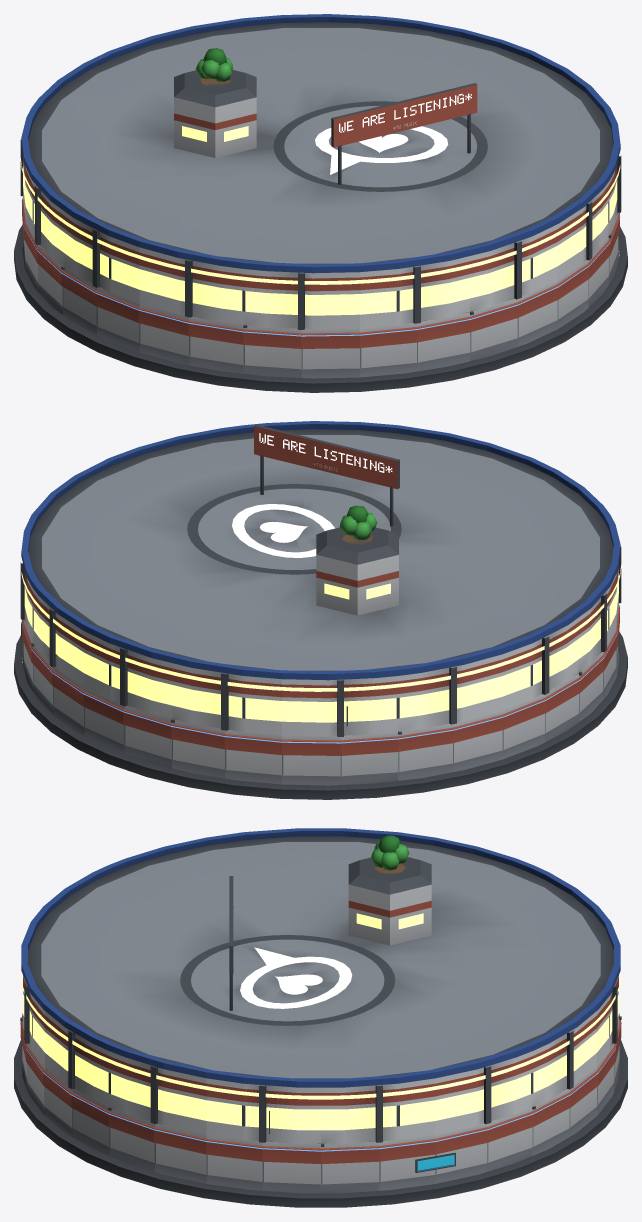
File: hr_office_m.glb
3 views of the same model, one above another, from view 1: azimuth 30°, elevation 25°; view 2: azimuth 150°, elevation 25°; view 3: azimuth 270°, elevation 25° (orthographic).
Parts seen in each view (by area): view 1: Roof, Base, PorchTop, Upper_21, Upper_22, Upper_20, Upper_19, Wall_21, Wall_20, Upper_23, Wall_22, Upper_24 (+22 smaller); view 2: Roof, Base, PorchTop, Upper_10, Upper_09, Upper_11, Upper_12, Wall_10, Wall_11, Upper_08, Wall_09, Upper_07 (+23 smaller); view 3: Roof, Base, Upper_00, Upper_31, PorchTop, Upper_01, Upper_30, Wall_00, Wall_31, Upper_02, Upper_29, Wall_30 (+22 smaller).
Part boxes in pixels (box(x1,y1,x2,y2)): Roof: box(21, 14, 620, 267); Base: box(14, 225, 627, 392); PorchTop: box(20, 83, 620, 284); Upper_21: box(301, 272, 359, 329); Upper_22: box(360, 266, 417, 328); Upper_20: box(244, 269, 301, 329); Upper_19: box(188, 260, 243, 325); Wall_21: box(301, 328, 359, 378); Wall_20: box(243, 325, 301, 377); Upper_23: box(416, 256, 469, 323); Wall_22: box(360, 322, 417, 377); Upper_24: box(469, 242, 519, 311); Roof: box(21, 421, 620, 674); Base: box(14, 632, 627, 799); PorchTop: box(21, 424, 621, 691); Upper_10: box(282, 679, 340, 736); Upper_09: box(224, 673, 281, 735); Upper_11: box(340, 676, 397, 736); Upper_12: box(398, 667, 453, 731); Wall_10: box(282, 735, 340, 785); Wall_11: box(340, 732, 398, 784); Upper_08: box(172, 663, 225, 730); Wall_09: box(224, 729, 281, 784); Upper_07: box(122, 649, 172, 718); Roof: box(21, 828, 620, 1081); Base: box(14, 1040, 627, 1207); Upper_00: box(321, 1085, 379, 1144); Upper_31: box(262, 1085, 320, 1144); PorchTop: box(20, 876, 621, 1099); Upper_01: box(379, 1078, 435, 1142); Upper_30: box(206, 1078, 262, 1142); Wall_00: box(321, 1141, 379, 1193); Wall_31: box(262, 1141, 320, 1193); Upper_02: box(435, 1066, 488, 1134); Upper_29: box(153, 1066, 206, 1134); Wall_30: box(206, 1135, 262, 1190).
Bounding box in the file's own units: 14.75 × 5.5 × 14.75.
